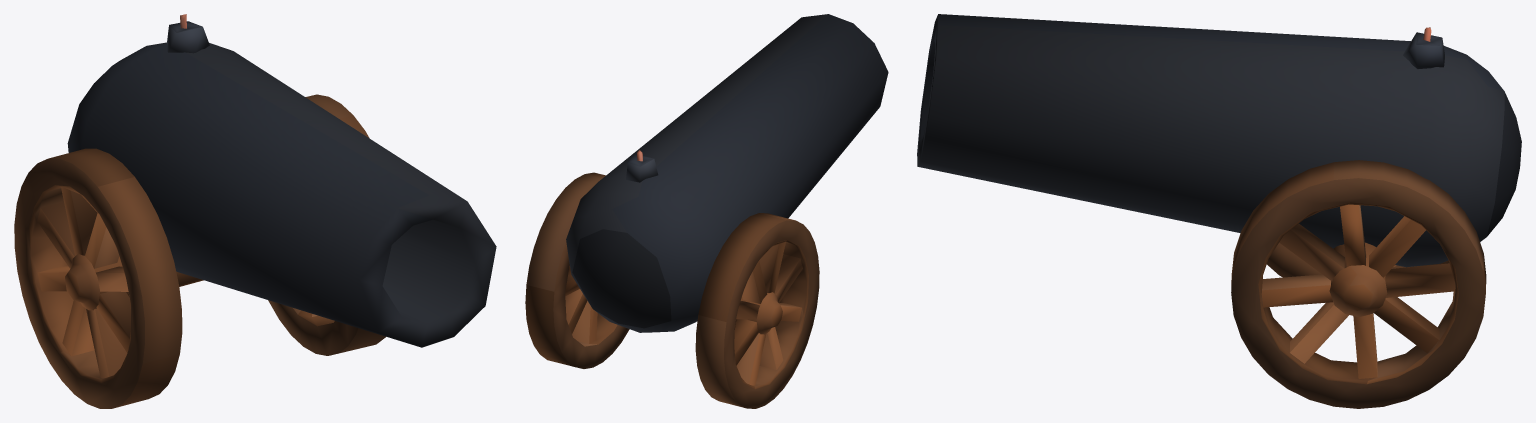
File: canon.fbx
3 renders of one model, left to right at view 1: azimuth 30°, elevation 25°; view 2: azimuth 150°, elevation 25°; view 3: azimuth 270°, elevation 25°, orthographic. The views are drawn at different scales.
Parts seen in each view (by area): view 1: Canon; view 2: Canon; view 3: Canon.
Boxes of the visible parts, x1,y1,x2,y2 form: Canon: (14,14,496,408); Canon: (525,14,888,408); Canon: (917,14,1521,408).
Bounding box in the file's own units: 285 × 324 × 547.
Materials: 1 (1 with a texture image).
